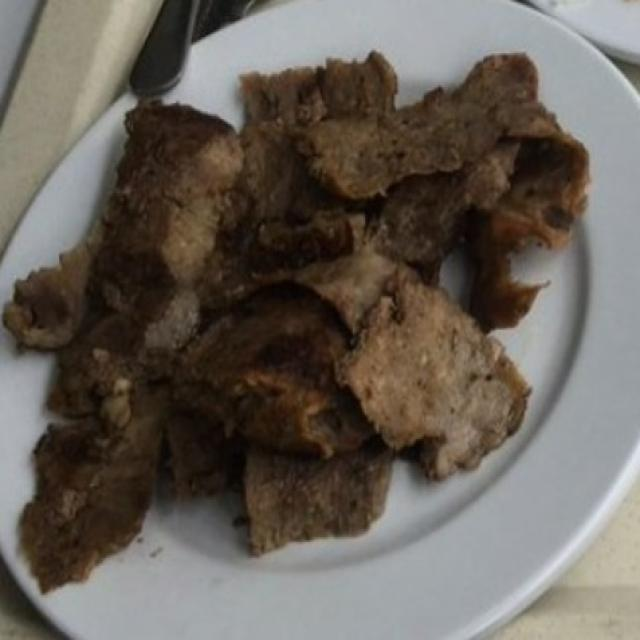ana_yemek: (12, 43, 598, 609)
